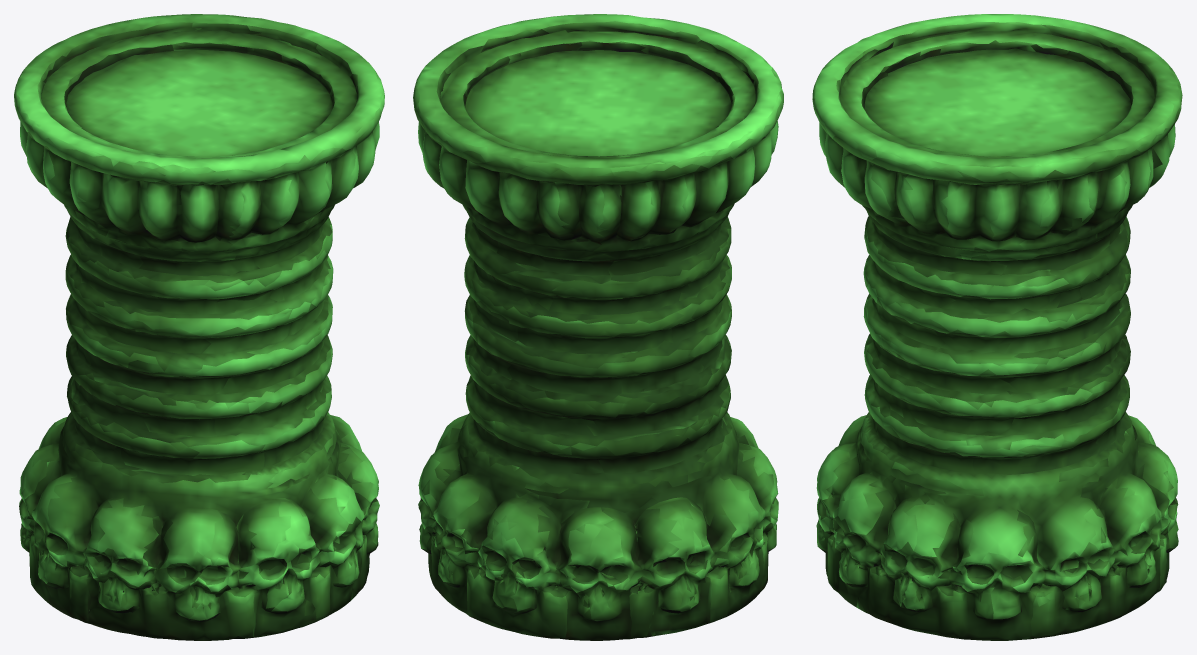
File: COL2A0.obj
The picture shows the model from 3 angles, left to right: view 1: azimuth 30°, elevation 25°; view 2: azimuth 150°, elevation 25°; view 3: azimuth 270°, elevation 25°; orthographic projection.
Bounding box in the file's own units: 0.7017 × 1.01 × 0.7016.
1 material, 1 textured.
